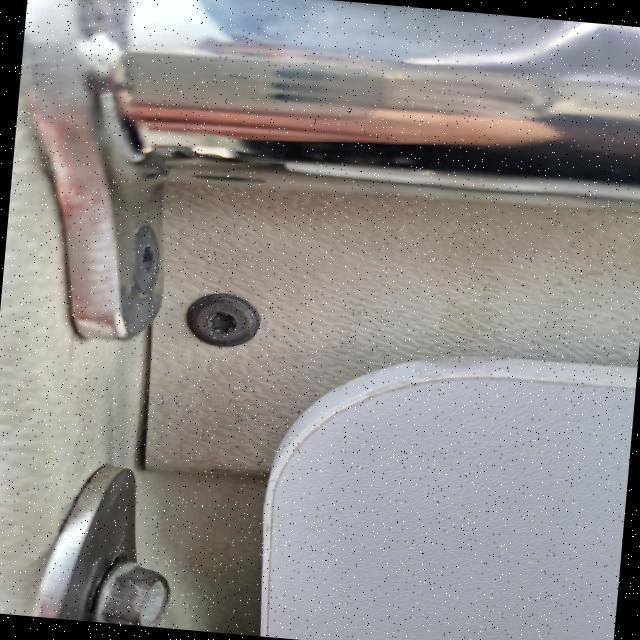Torx: (198, 309, 242, 339)
